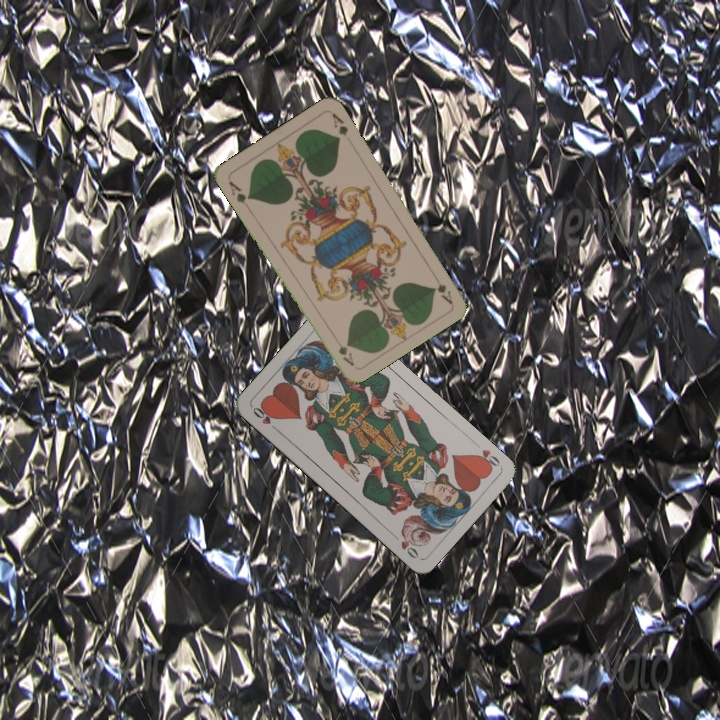GA: (224, 177, 253, 212), (428, 269, 455, 306)
HO: (470, 438, 504, 472), (249, 403, 281, 434)
